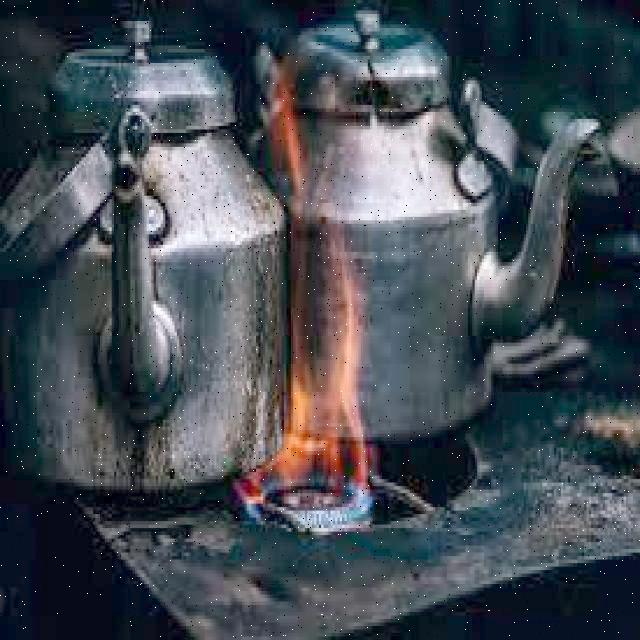fire: (244, 88, 374, 532)
